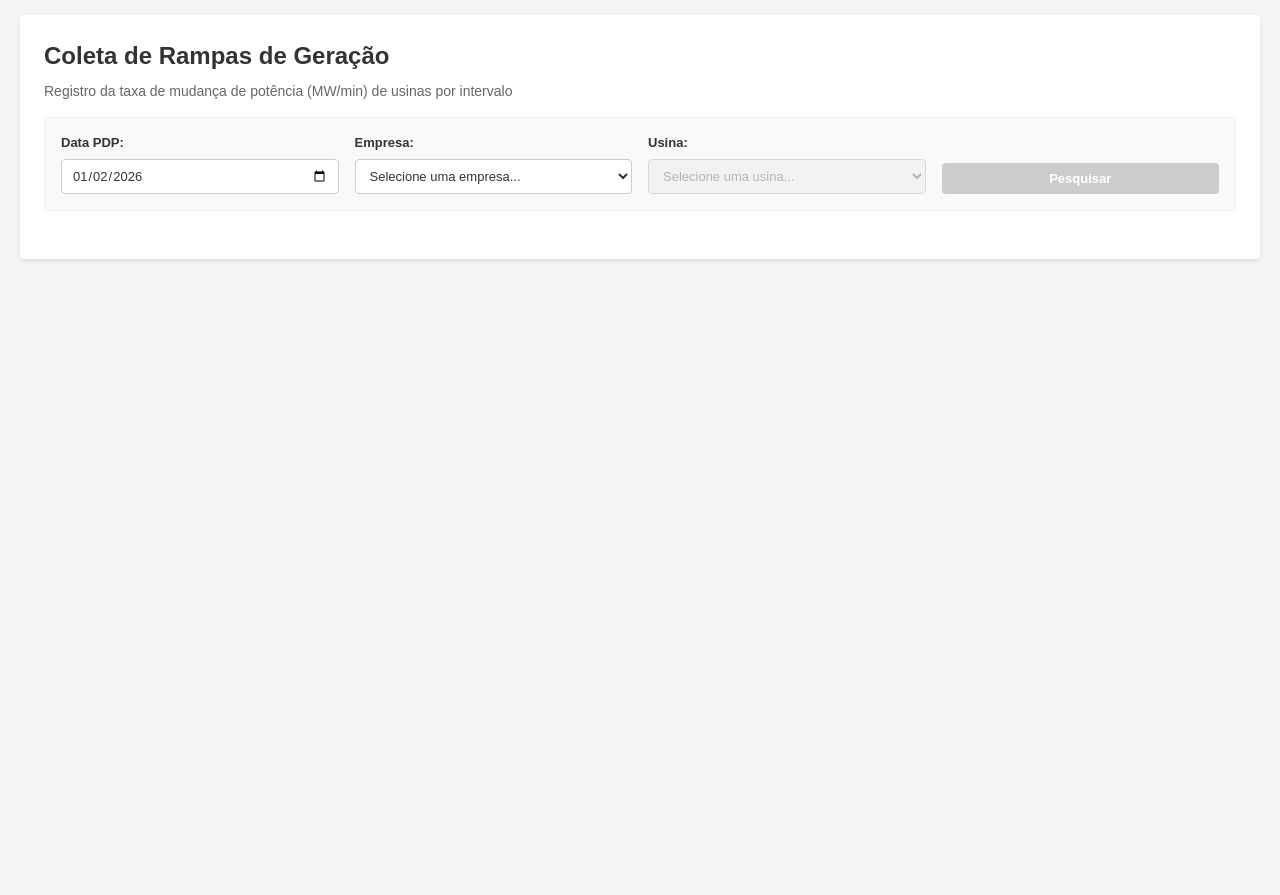
Test case: Ramp Component › Table Display › deve exibir horários corretos na coluna de intervalos
The width and height of the screenshot is (1280, 895).
Select "Empresa Geradora A" in the dropdown with test id "company-filter": [493, 176] box [354,159,632,194]
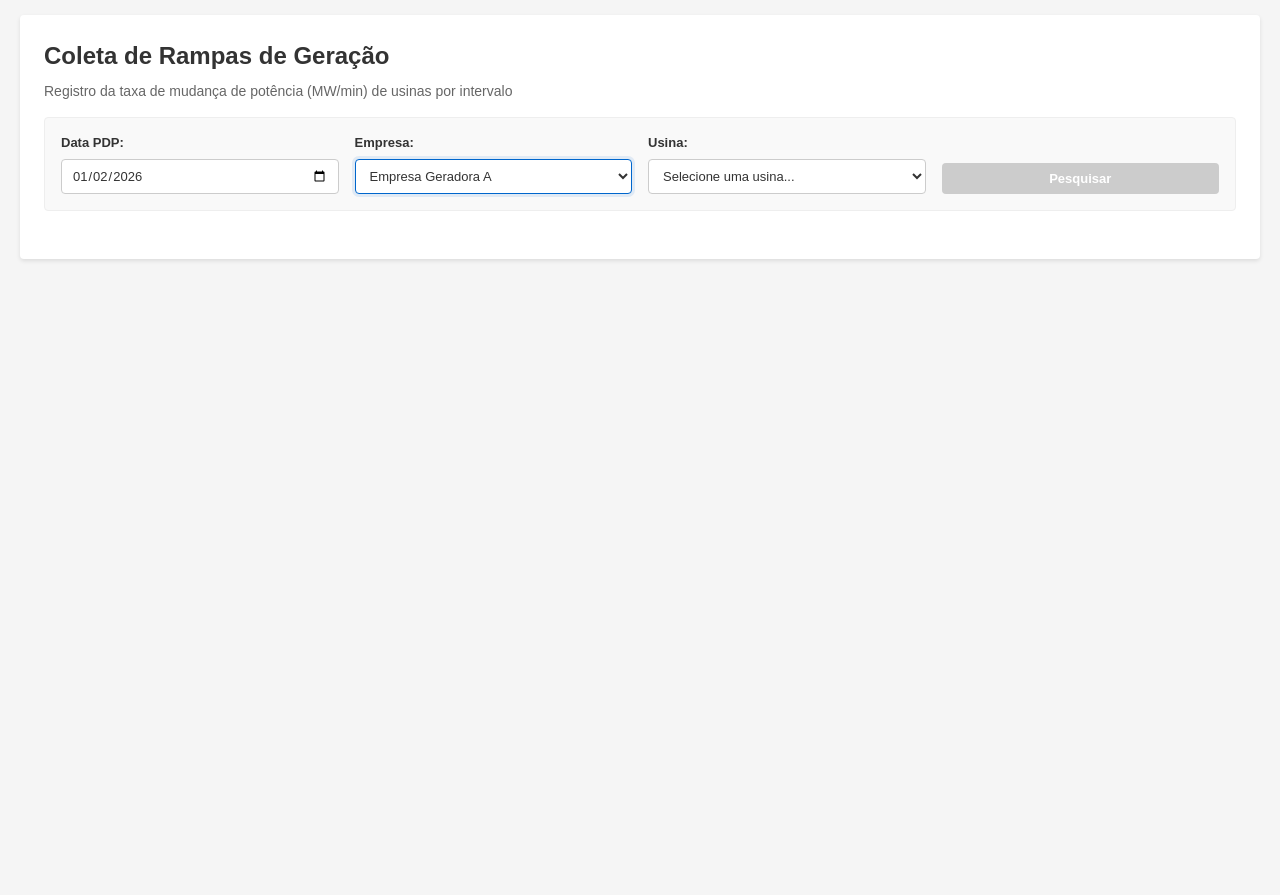
Select "Usina Hidroelétrica 1" in the dropdown with test id "plant-filter": [787, 176] box [648,159,926,194]
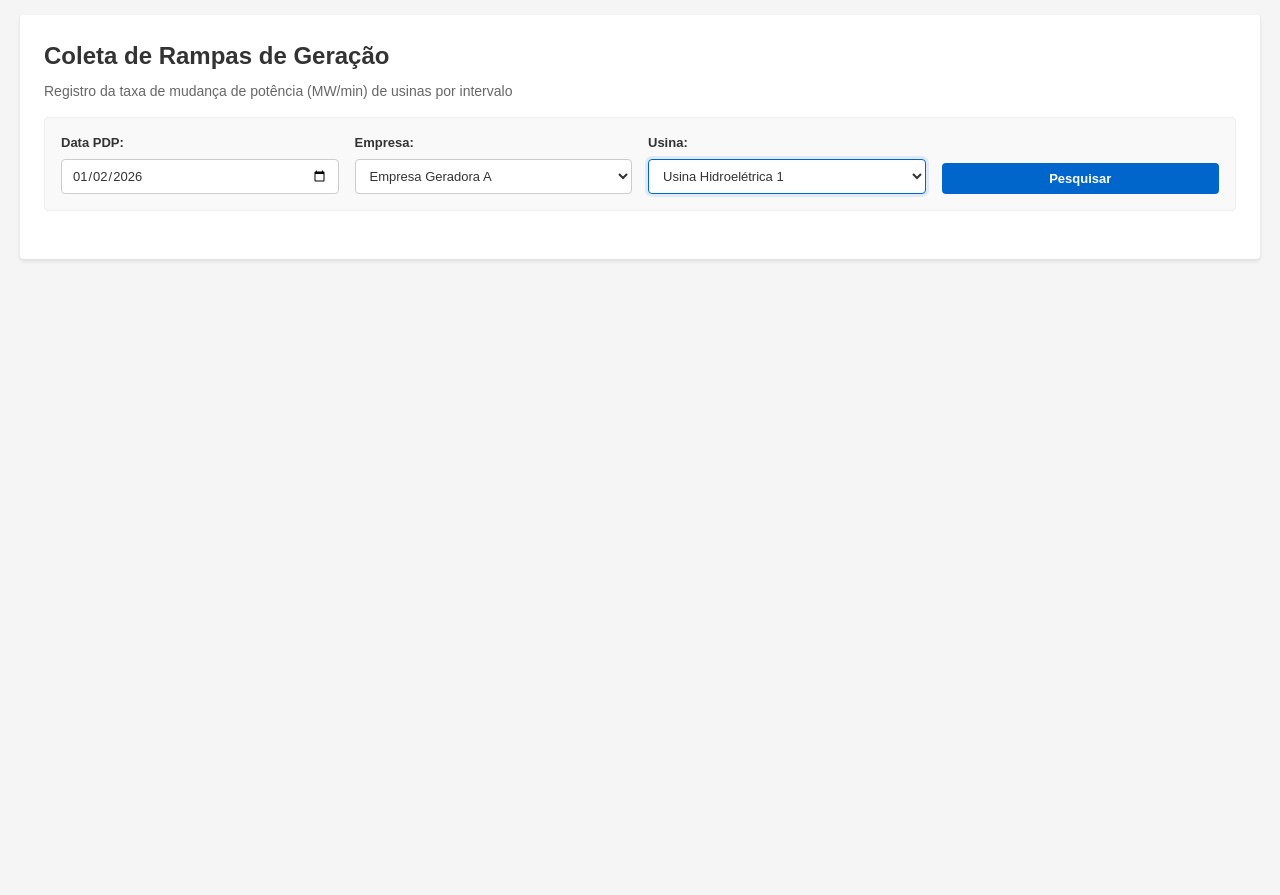
Click the button with test id "btn-search": [1080, 178] box [942,163,1219,194]
(page scrolled)
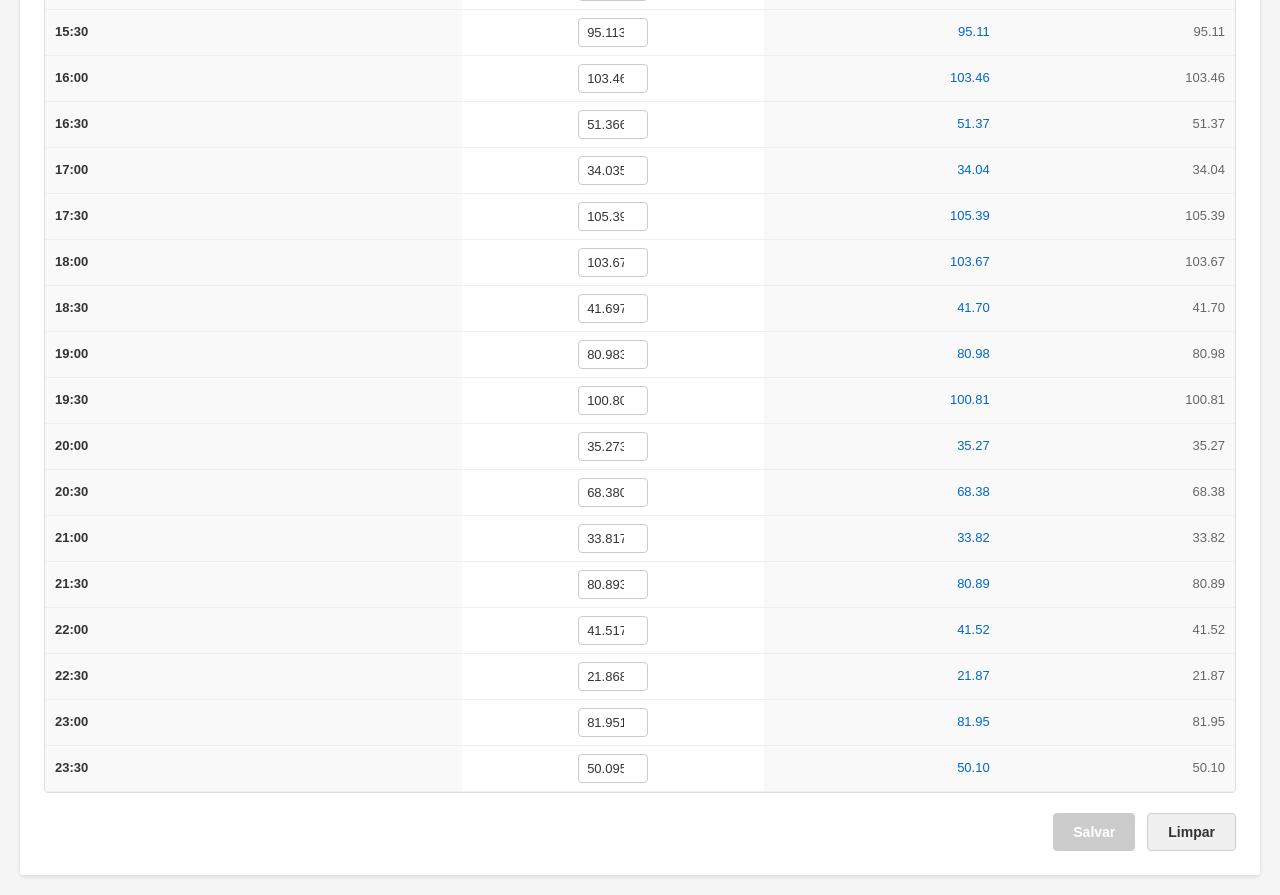
Now the row with test id "table-row-48" shows "23:30", box [45,746,1235,792]
